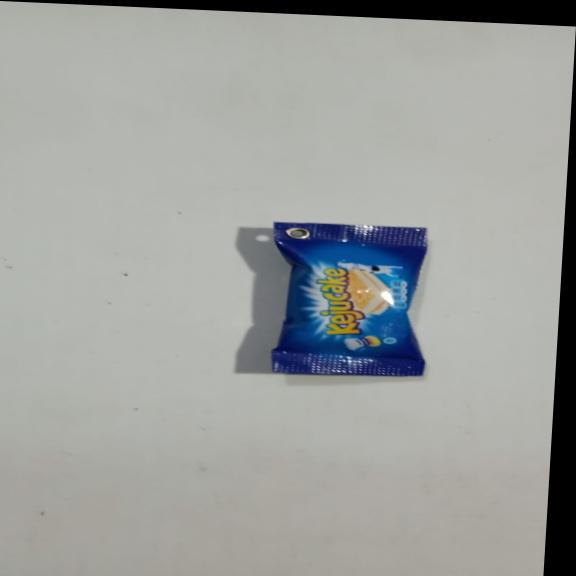Plastik: (264, 219, 433, 379)
